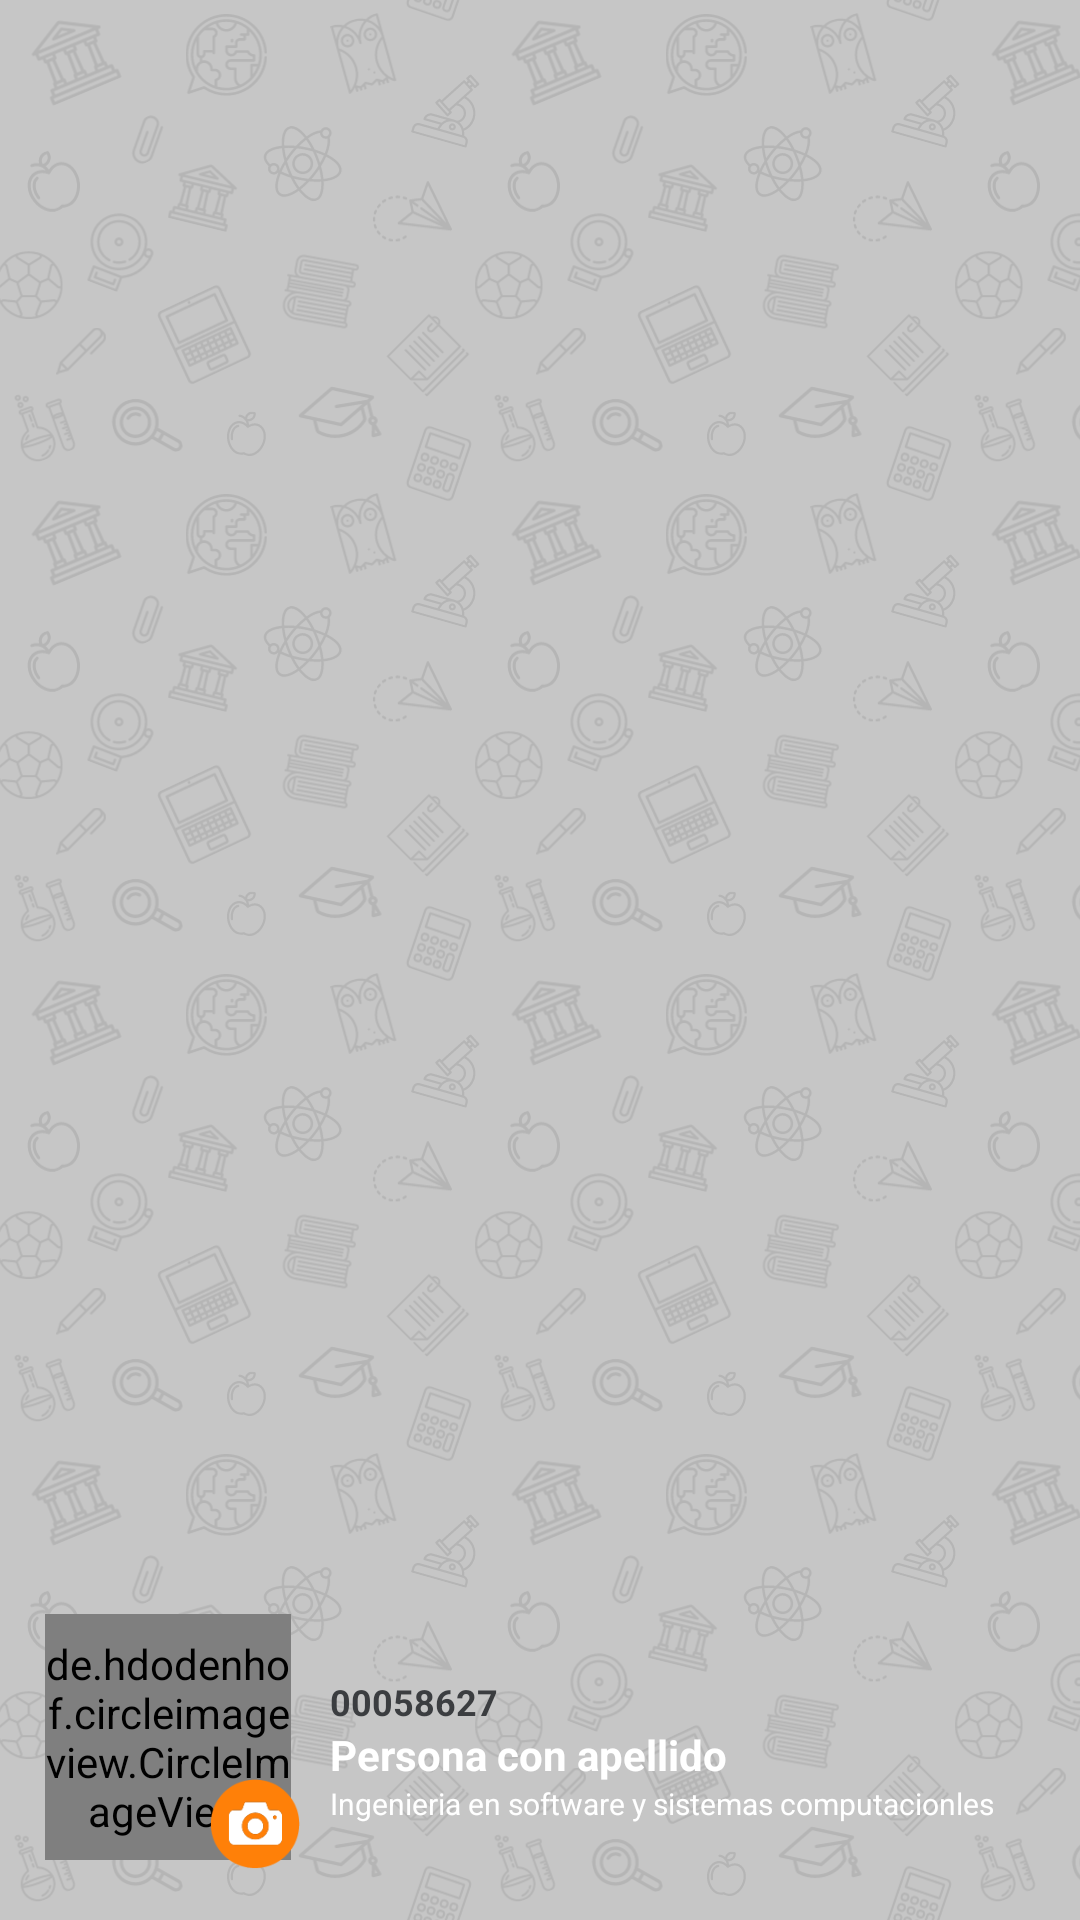

Where to tap for icons on this 1080px×1920px app screen, as (x,y):
change photo: (255,1824)
